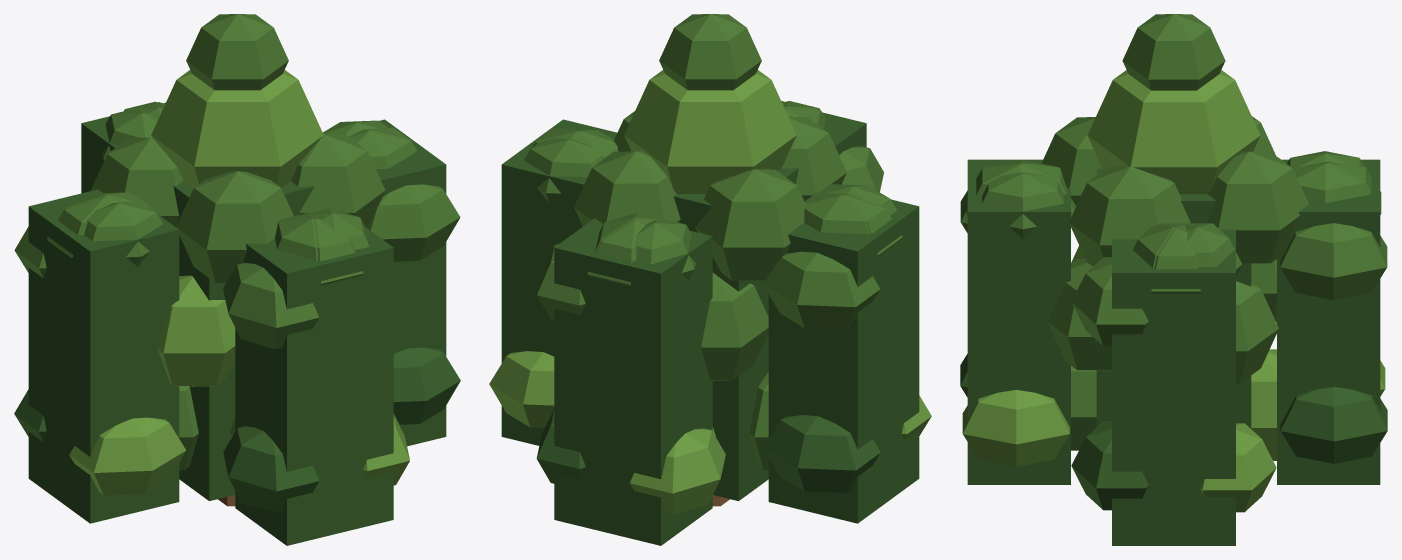
File: hedge_cross.glb
3 renders of one model, left to right at view 1: azimuth 30°, elevation 25°; view 2: azimuth 150°, elevation 25°; view 3: azimuth 270°, elevation 25°, orthographic.
Parts seen in each view (by area): view 1: wall_hedge_cross; view 2: wall_hedge_cross; view 3: wall_hedge_cross.
Boxes of the visible parts, x1,y1,x2,y2 form: wall_hedge_cross: (14, 14, 460, 545); wall_hedge_cross: (489, 14, 931, 545); wall_hedge_cross: (960, 14, 1387, 545).
Size of the model in its own units: 2.07 by 2.6 by 2.07.
